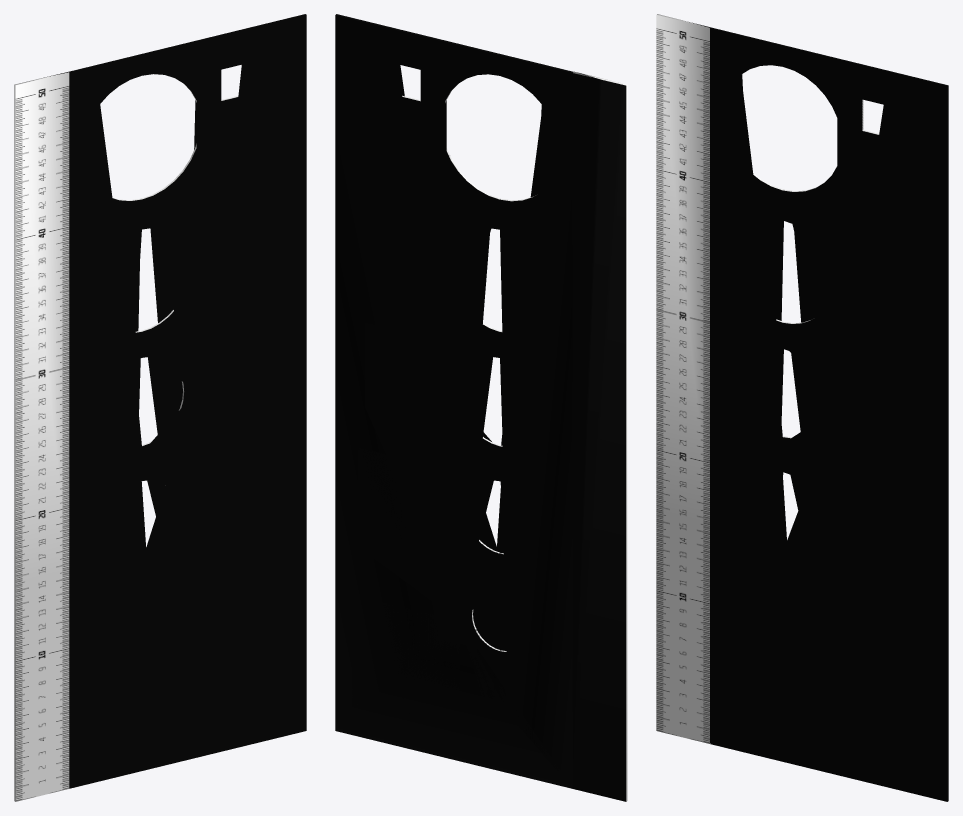
File: Penggaris mal.fbx
3 renders of one model, left to right at view 1: azimuth 30°, elevation 25°; view 2: azimuth 150°, elevation 25°; view 3: azimuth 330°, elevation 25°, orthographic.
Parts seen in each view (by area): view 1: Ruler_linear_50cm_001; view 2: Ruler_linear_50cm_001; view 3: Ruler_linear_50cm_001.
Part boxes in pixels (<box>): Ruler_linear_50cm_001: <box>14,14,306,801</box>; Ruler_linear_50cm_001: <box>335,14,627,801</box>; Ruler_linear_50cm_001: <box>656,14,948,801</box>.
Bounding box in the file's own units: 297 × 698 × 2.13.
